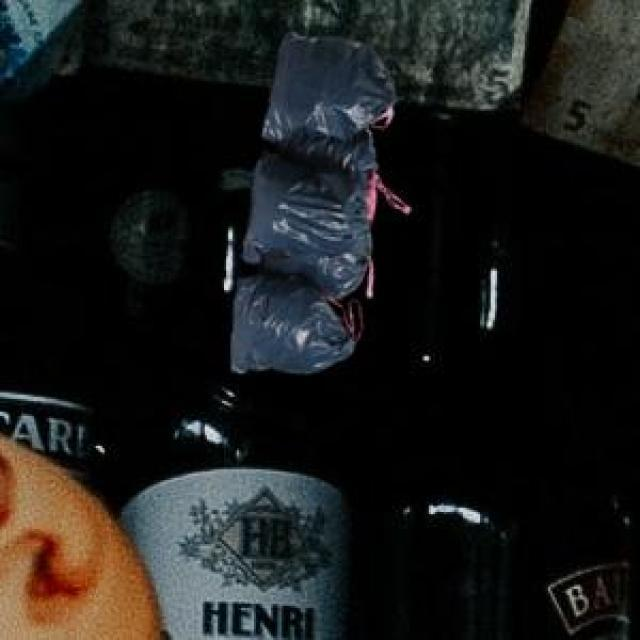Vinyl: (231, 34, 395, 373)
